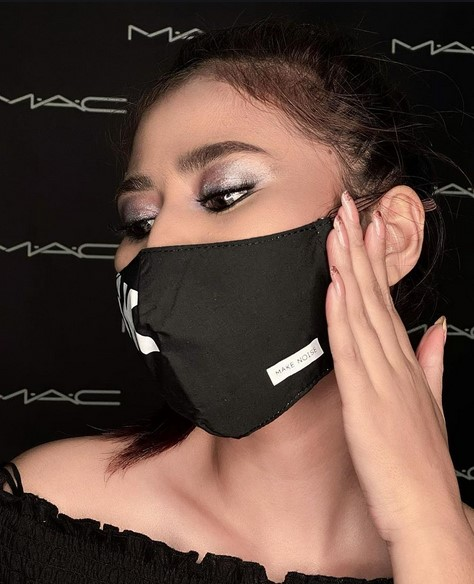face_with_mask: (112, 39, 430, 447)
